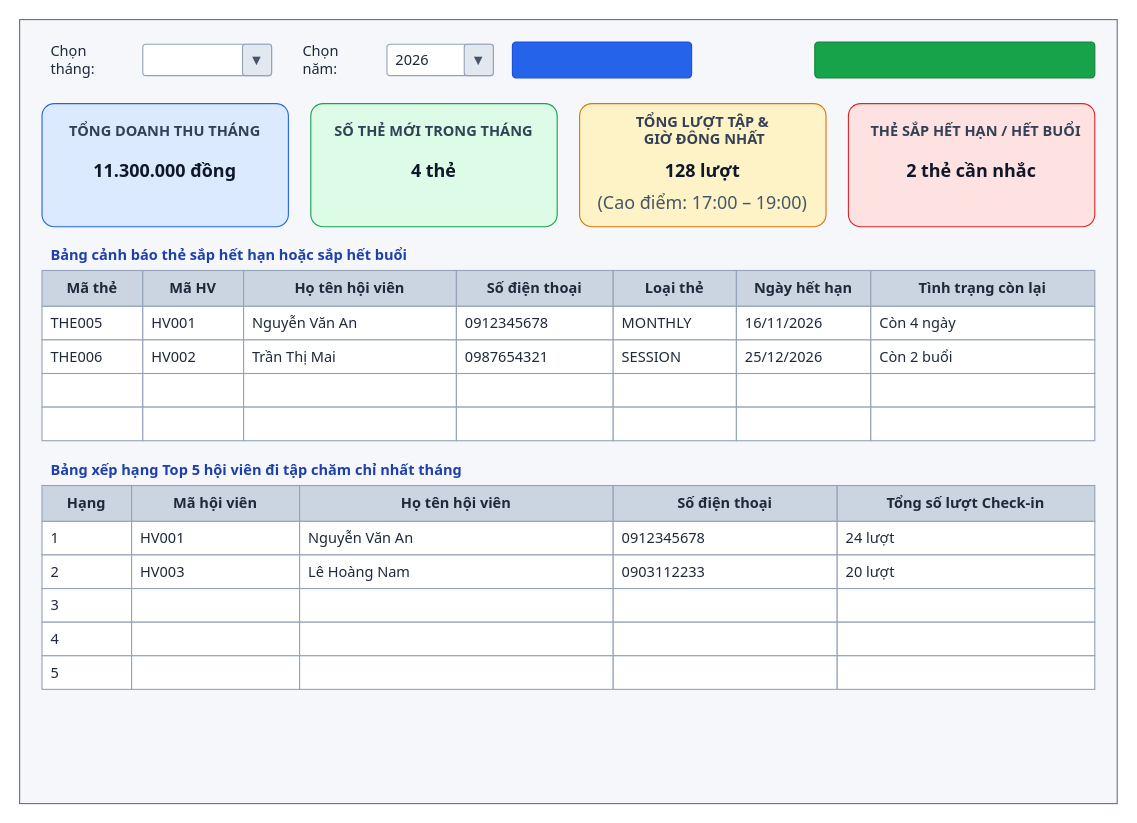
The diagram is 1137 pixels wide and 823 high, and some of its shapes have lost their labels. The box of each missing label's shape, as (x1, y1, x2, y2) in pixels:
Tháng 11: (142, 43, 272, 76)
Xem thống kê: (511, 41, 692, 78)
Xuất báo cáo ra tệp CSV: (814, 41, 1095, 78)
